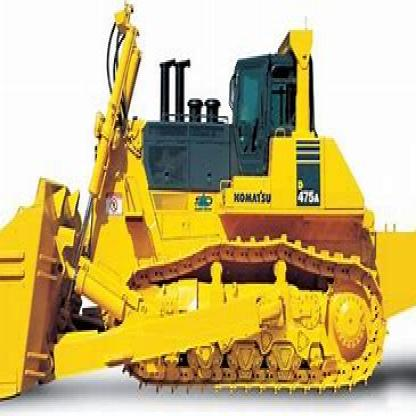bull_dozer/loader/grader: (0, 2, 414, 410)
